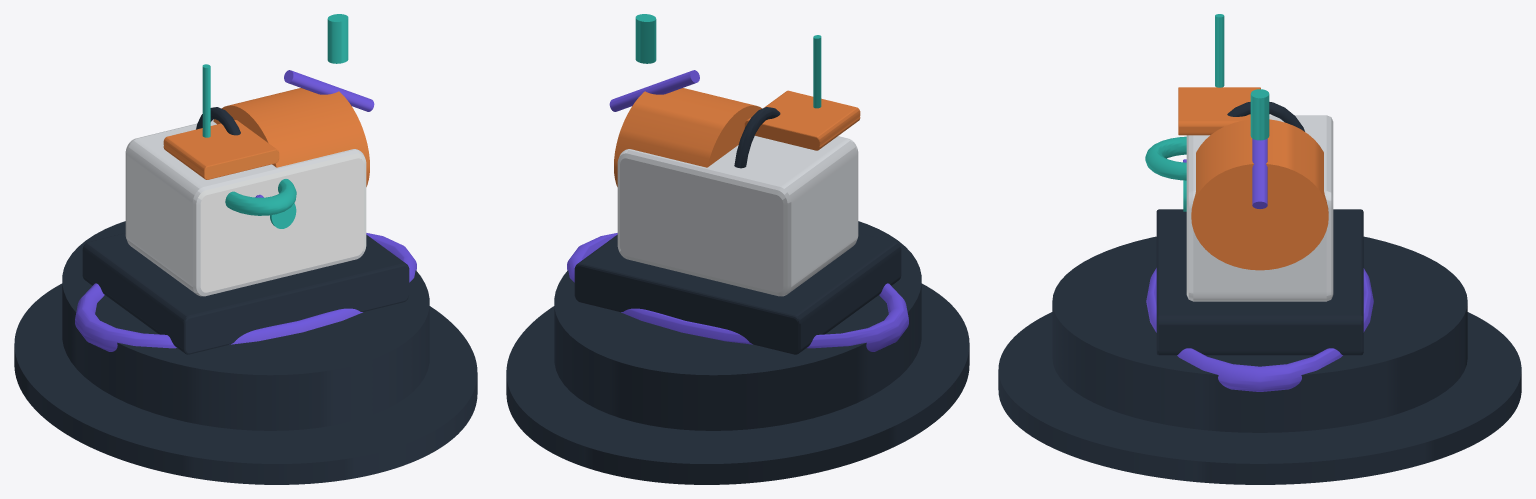
Rendered from 0584_伟大的发明图鉴_斯普特尼克一号.glb.
3 views of the same model, side by side, from view 1: azimuth 30°, elevation 25°; view 2: azimuth 150°, elevation 25°; view 3: azimuth 270°, elevation 25° (orthographic).
Parts seen in each view (by area): view 1: card_0584; view 2: card_0584; view 3: card_0584.
Boxes of the visible parts, x1,y1,x2,y2 form: card_0584: [14, 14, 477, 484]; card_0584: [506, 14, 969, 484]; card_0584: [998, 14, 1521, 484].
Bounding box in the file's own units: 1.17 × 1 × 1.37.
